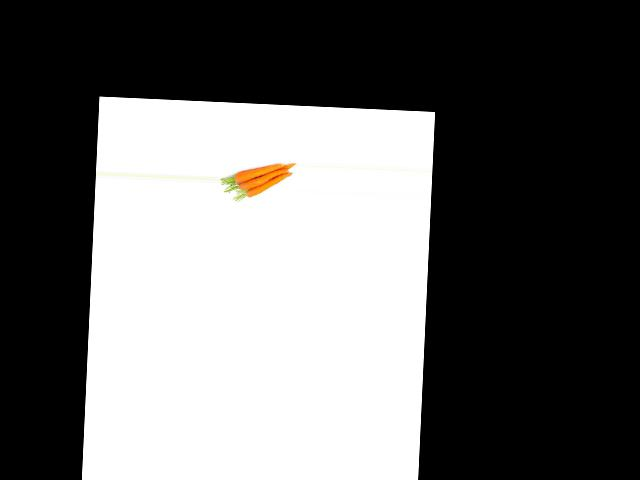carrot: (229, 159, 284, 184)
